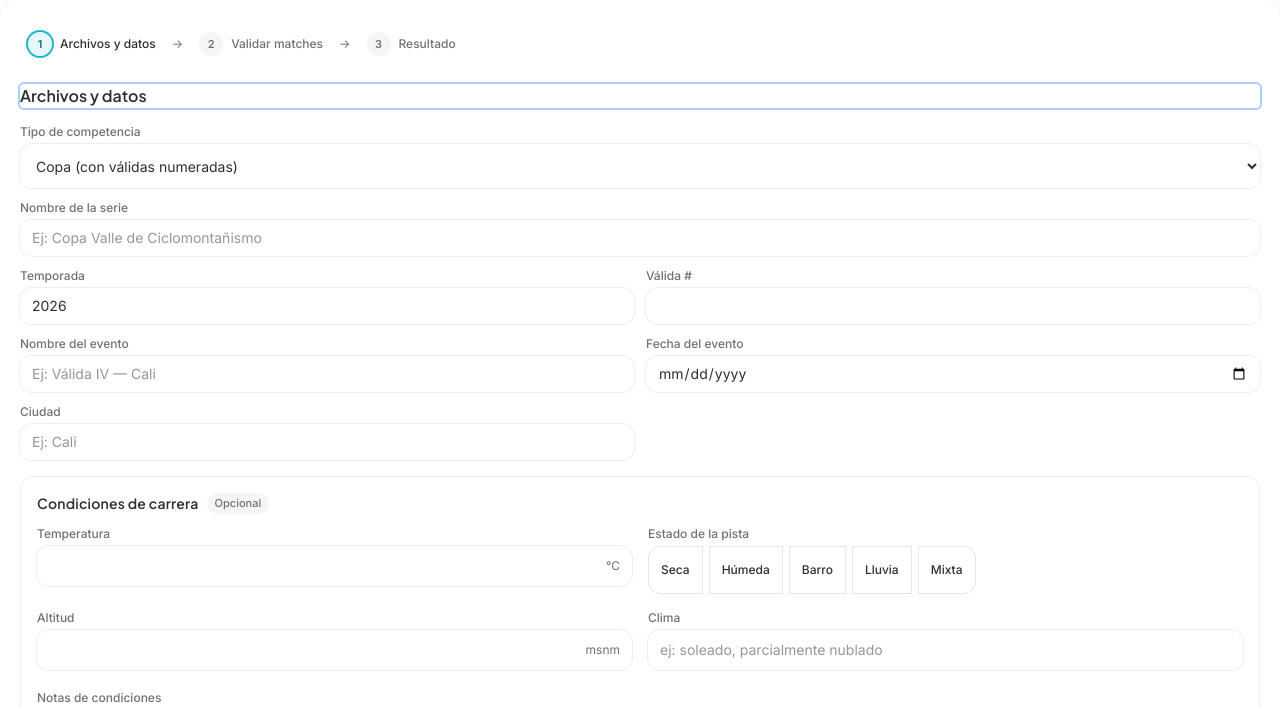
Scenario: ImportWizard — nivel del campeonato (feature 023) › al volver de campeonato a copa desaparece el selector de nivel
Select "Campeonato (evento único anual)" in the dropdown with test id "wizard-series-kind" at [640, 166], box x1=20 y1=144 x2=1260 y2=188
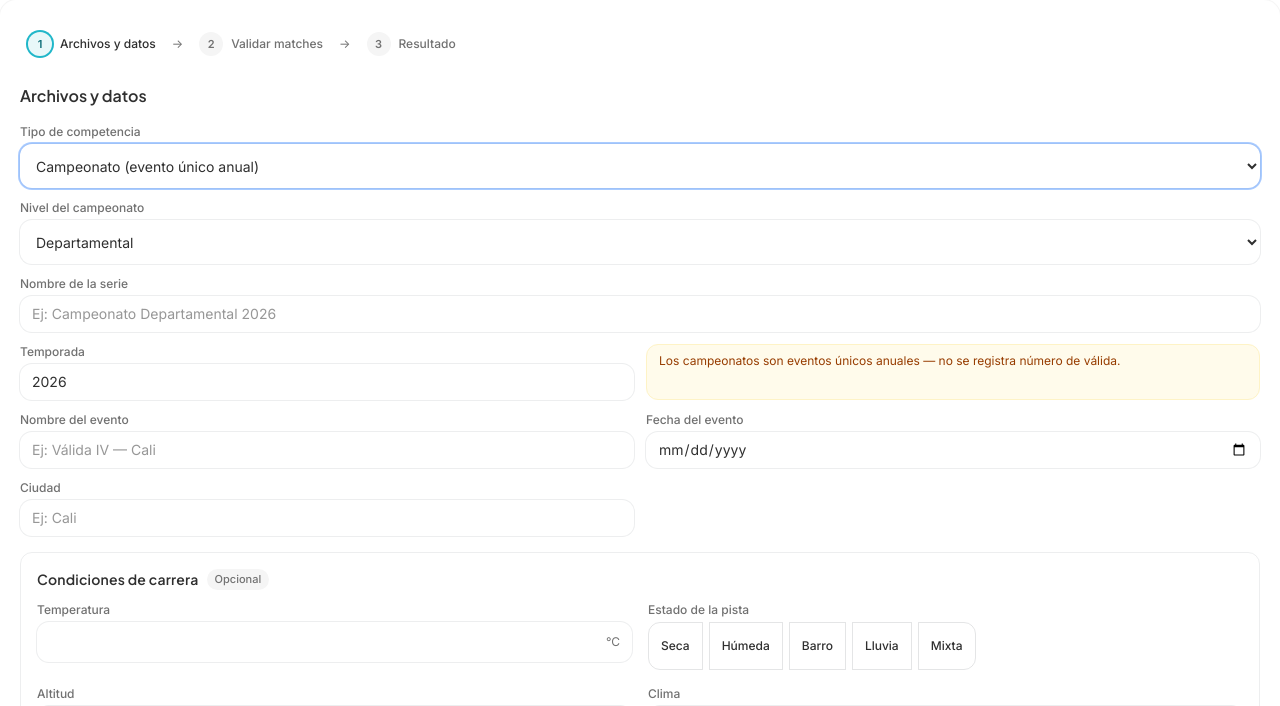
Result: the dropdown with test id "wizard-series-level" is shown at x1=20 y1=220 x2=1260 y2=264
Select "Copa (con válidas numeradas)" in the dropdown with test id "wizard-series-kind" at [640, 166], box x1=20 y1=144 x2=1260 y2=188
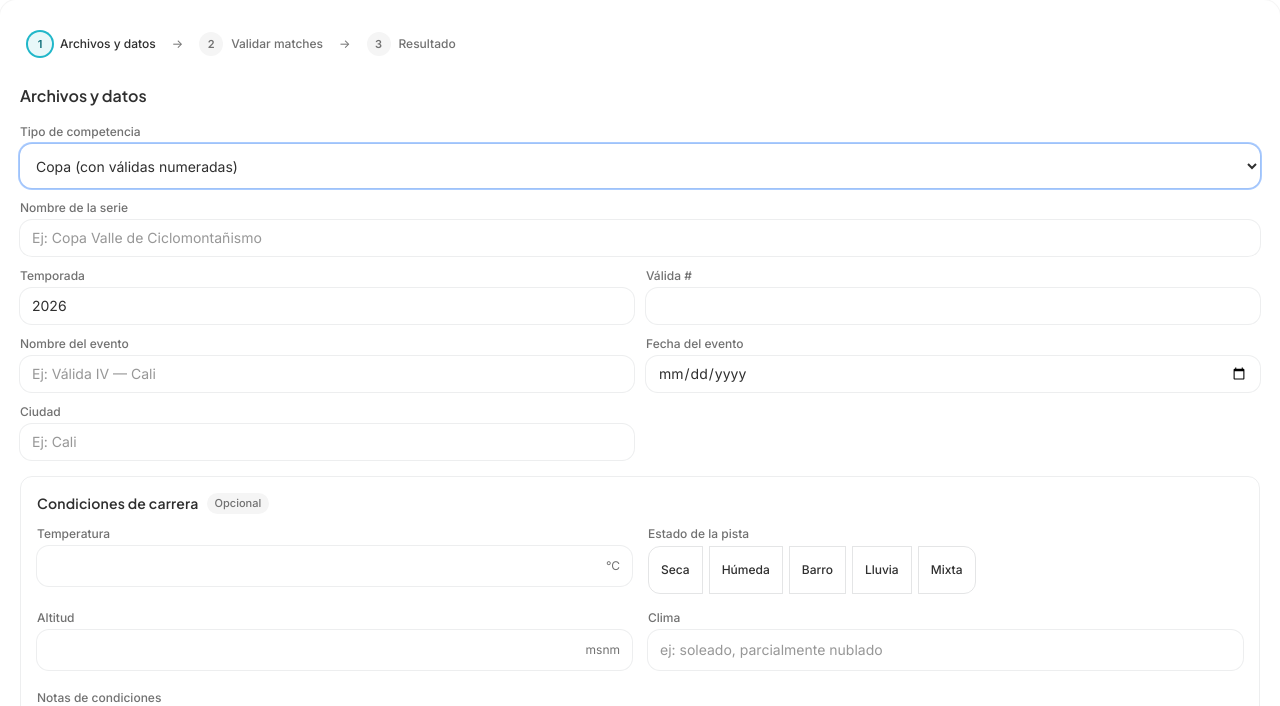
Result: the dropdown with test id "wizard-series-level" is gone
